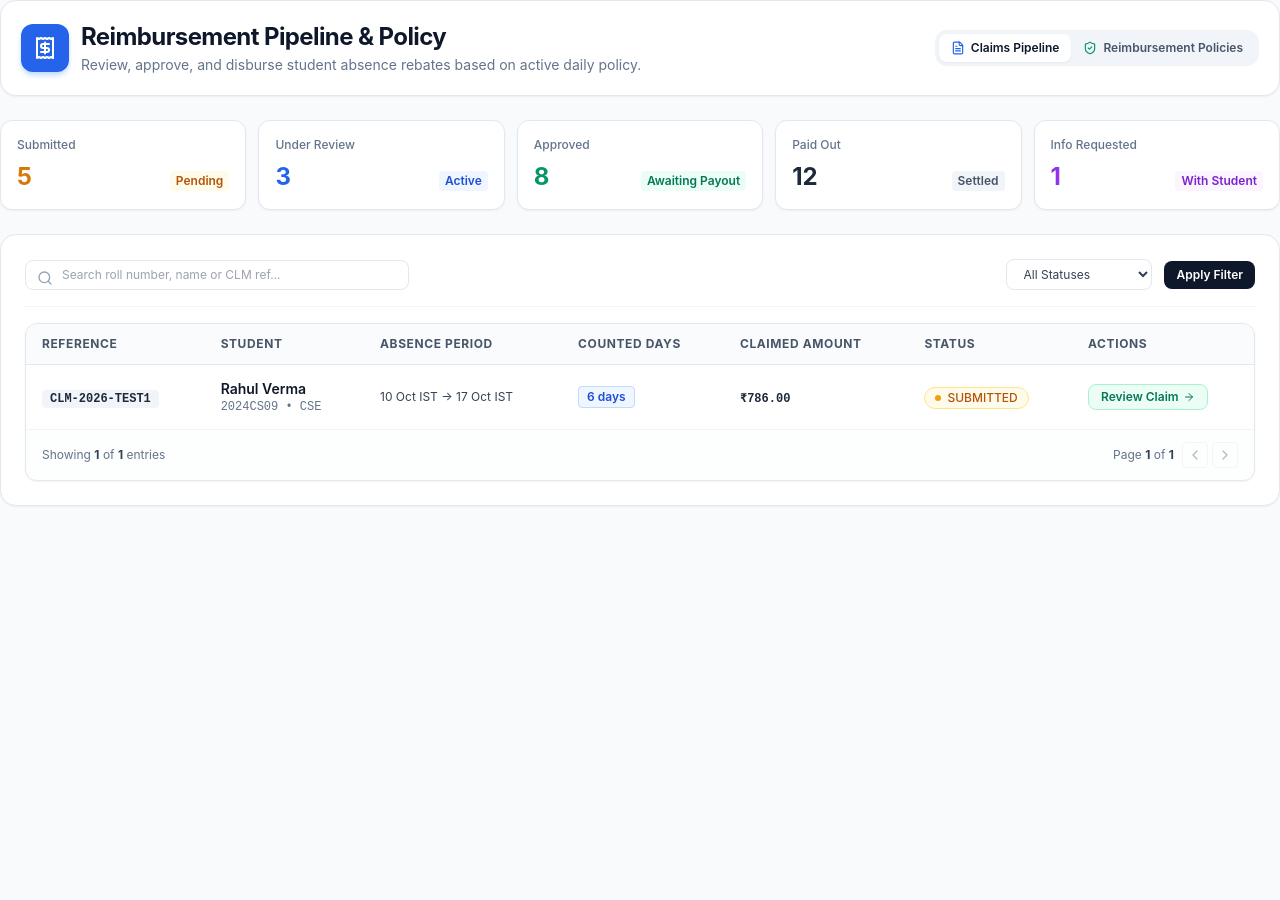
Test: ReimbursementsPage › opens claim detail modal with calculation breakdown
Click the button "Review Claim" at (1148, 397), box [1088,384,1208,410]
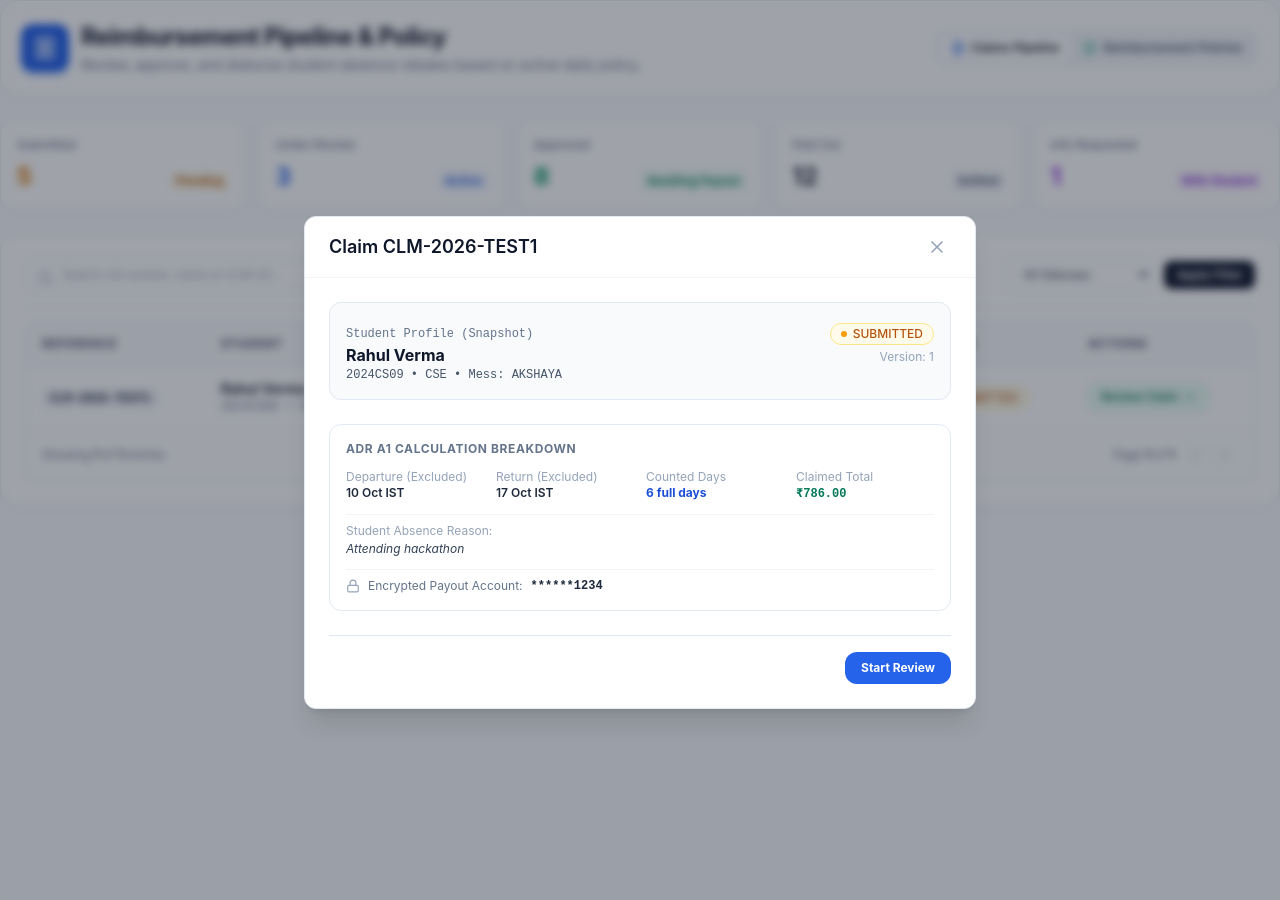
Expected: the heading "ADR A1 Calculation Breakdown" is shown, [346,440,576,456]
Expected: the text "6 full days" is shown, [646,484,706,500]
Expected: the text "Attending hackathon" is shown, [346,540,464,556]
